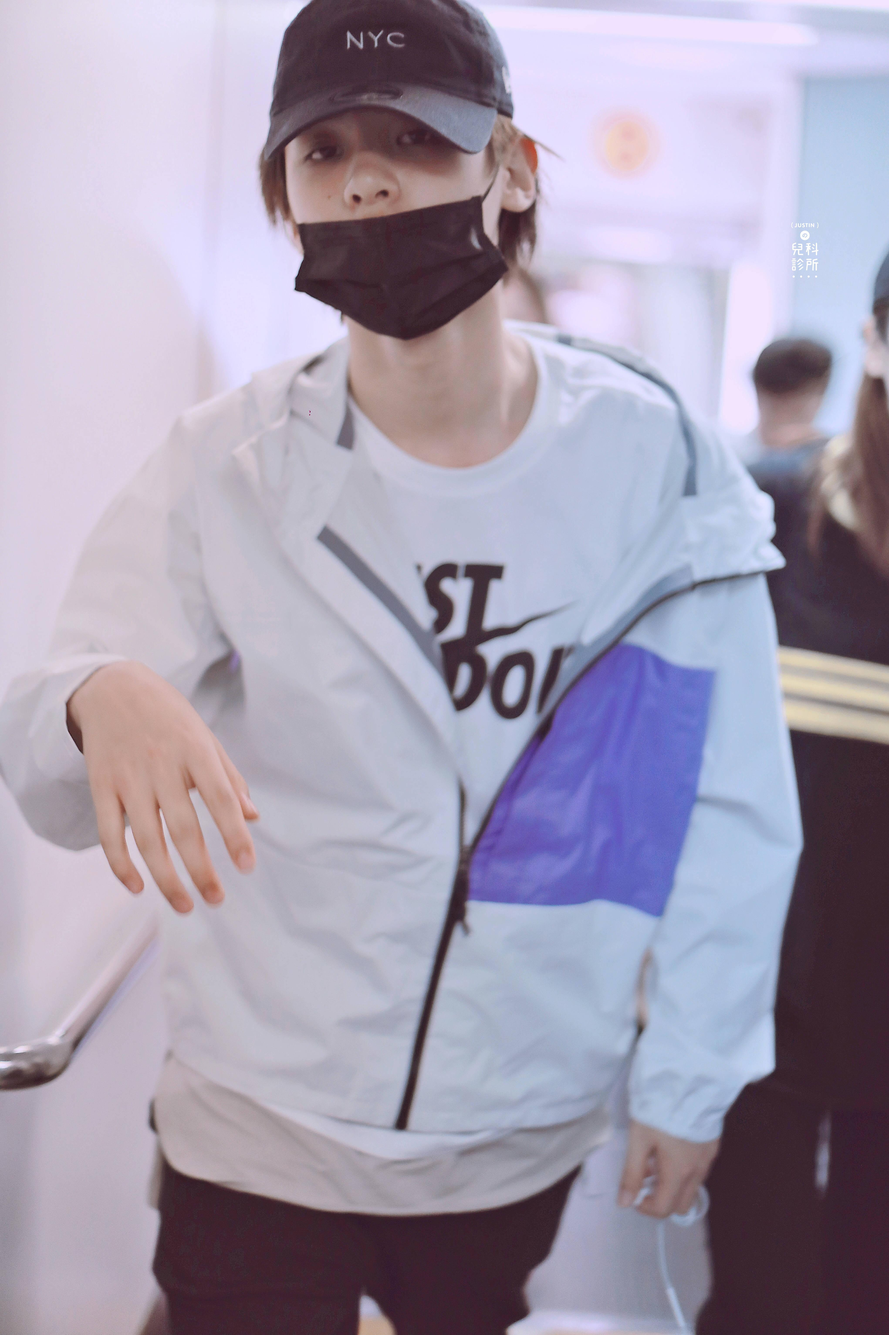WRONG: (291, 82, 488, 336)
